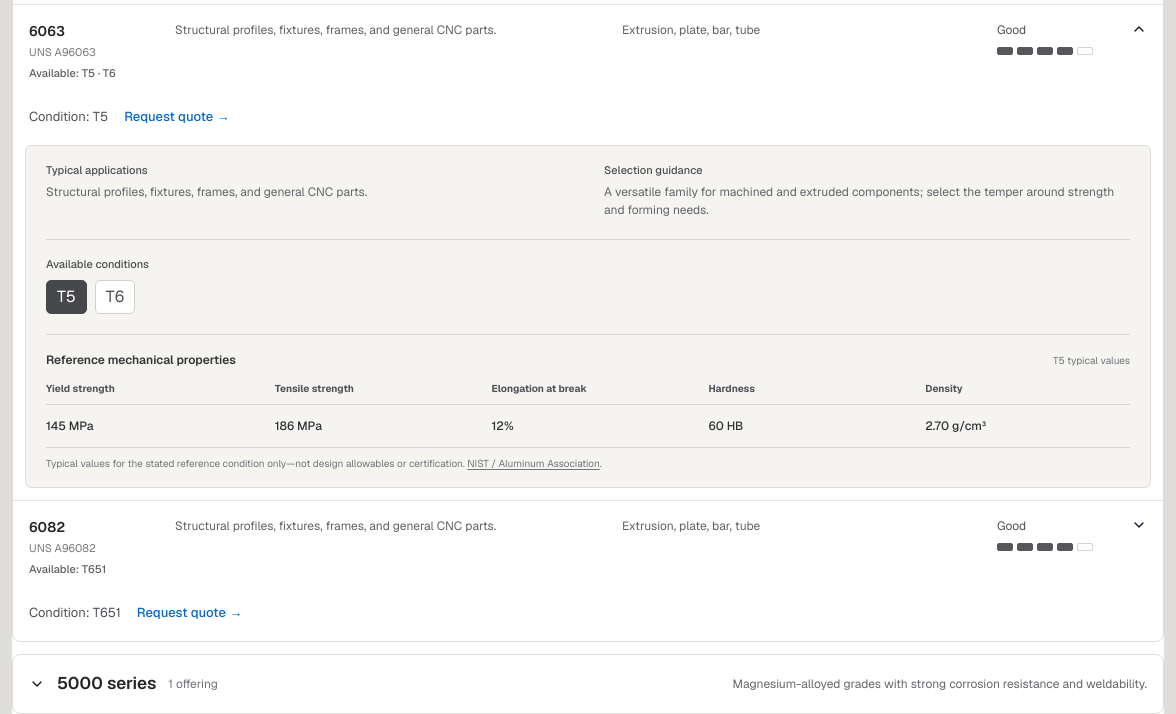
it: MaterialGradeDirectory › opens and closes a grade series
(page scrolled)
Click the button "5000 series".
click(107, 683)  # box left=13, top=655, right=1163, bottom=712
(page scrolled)
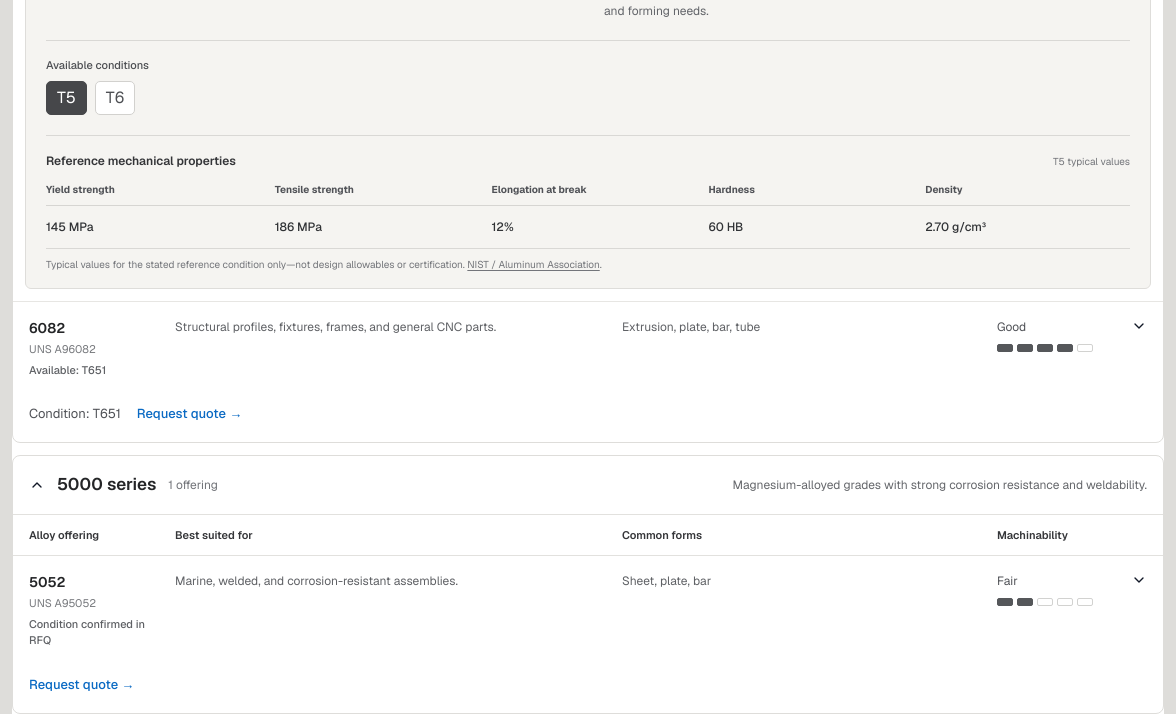
Expected: the button "5000 series" is expanded, left=13, top=456, right=1163, bottom=514
Expected: the button "5052" is shown, left=13, top=556, right=1163, bottom=664
